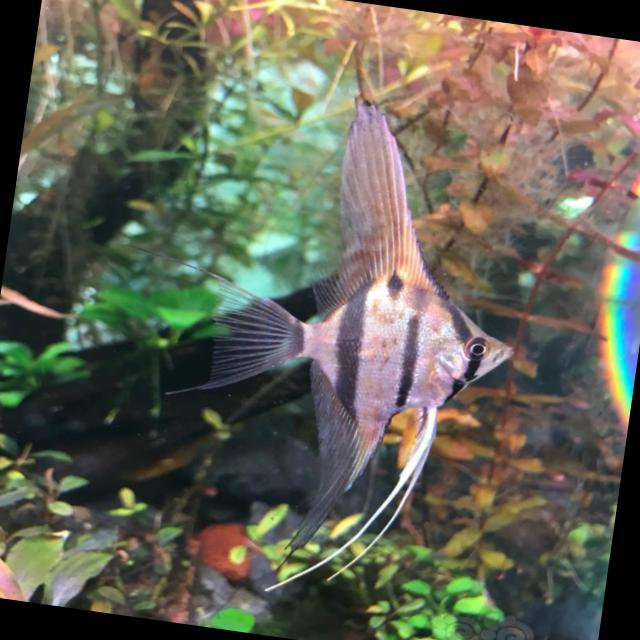AngelFish: (188, 84, 547, 594)
